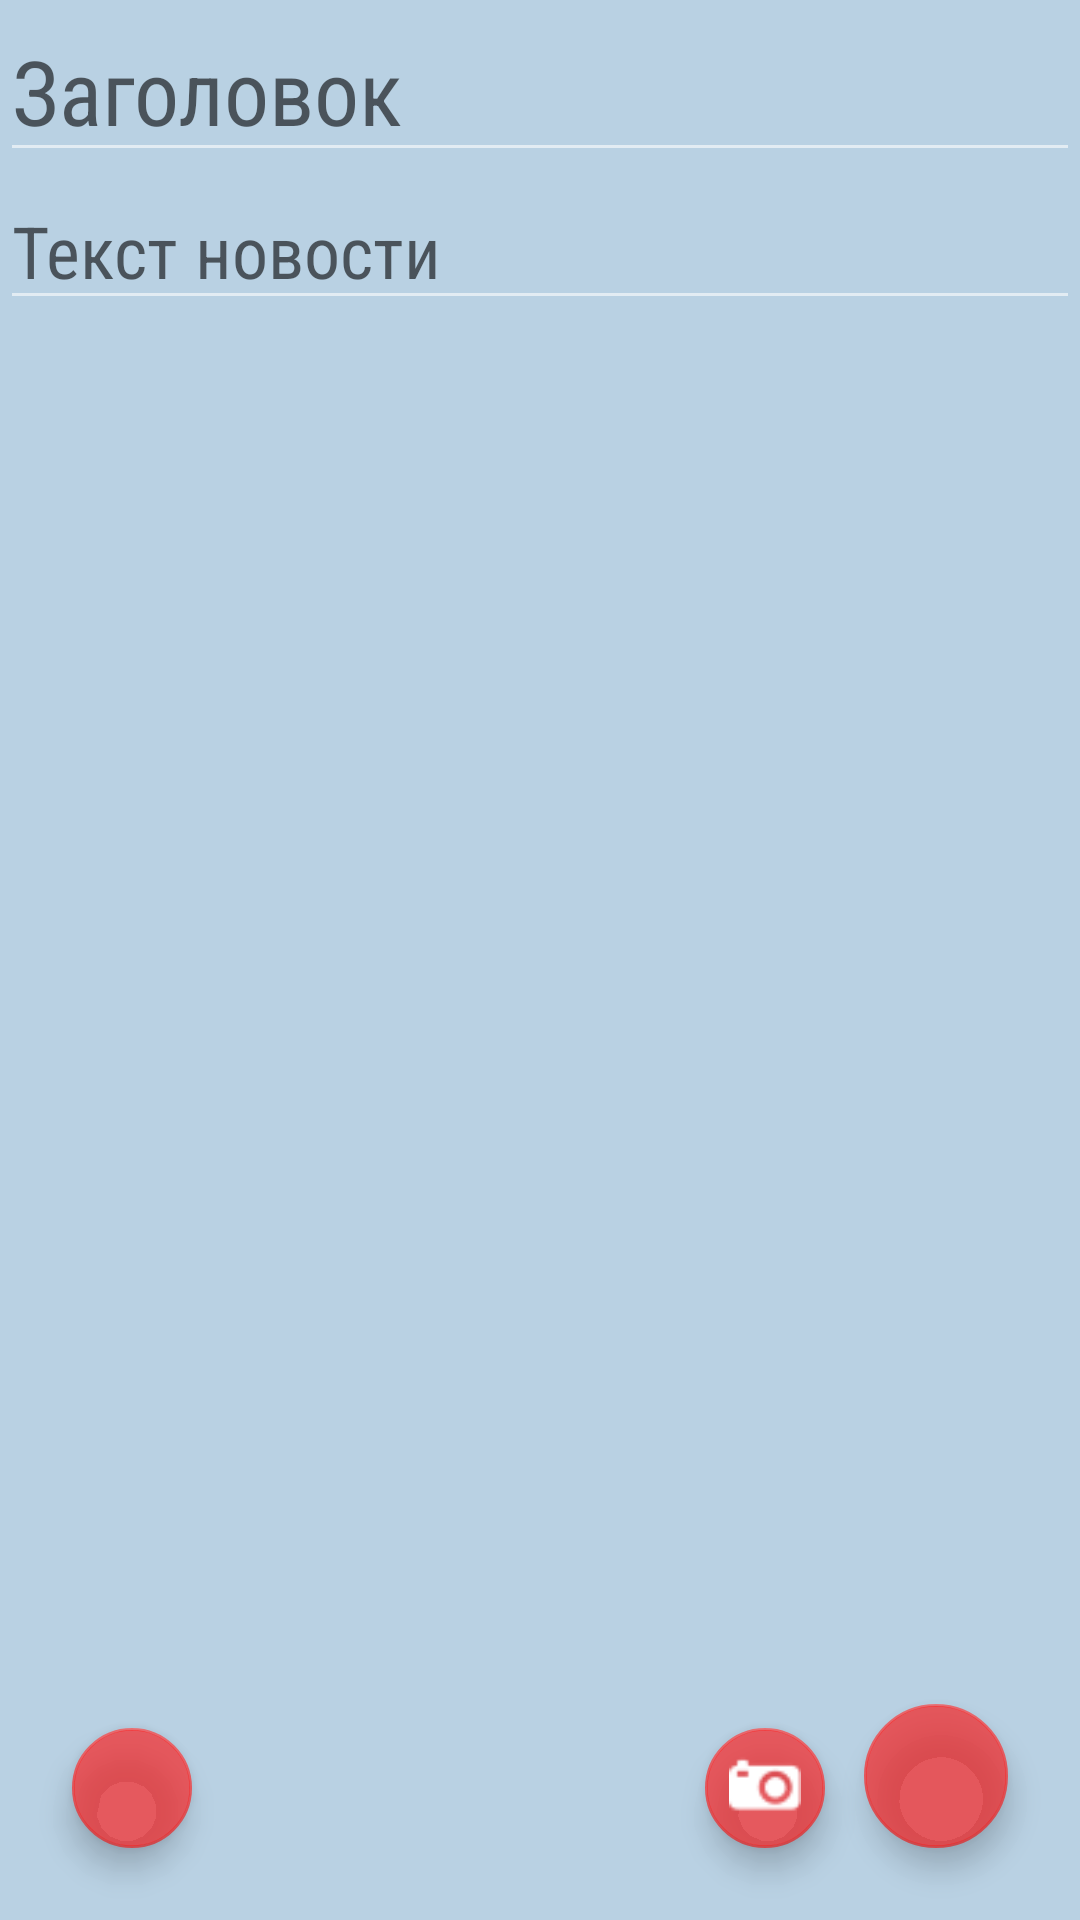

Icon click points for this 1080×1920 phone screenshot, format (x,y):
camera: (765,1788)
